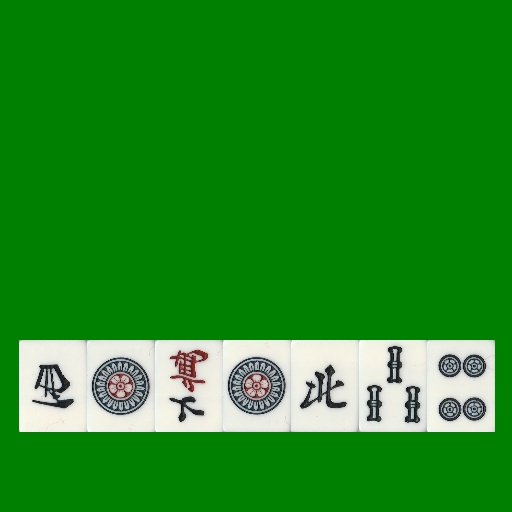1p: (87, 340, 155, 432), (223, 340, 291, 432)
3s: (359, 340, 427, 432)
4p: (427, 340, 495, 432)
7m: (155, 340, 223, 432)
north: (291, 340, 359, 432)
west: (19, 340, 87, 432)
